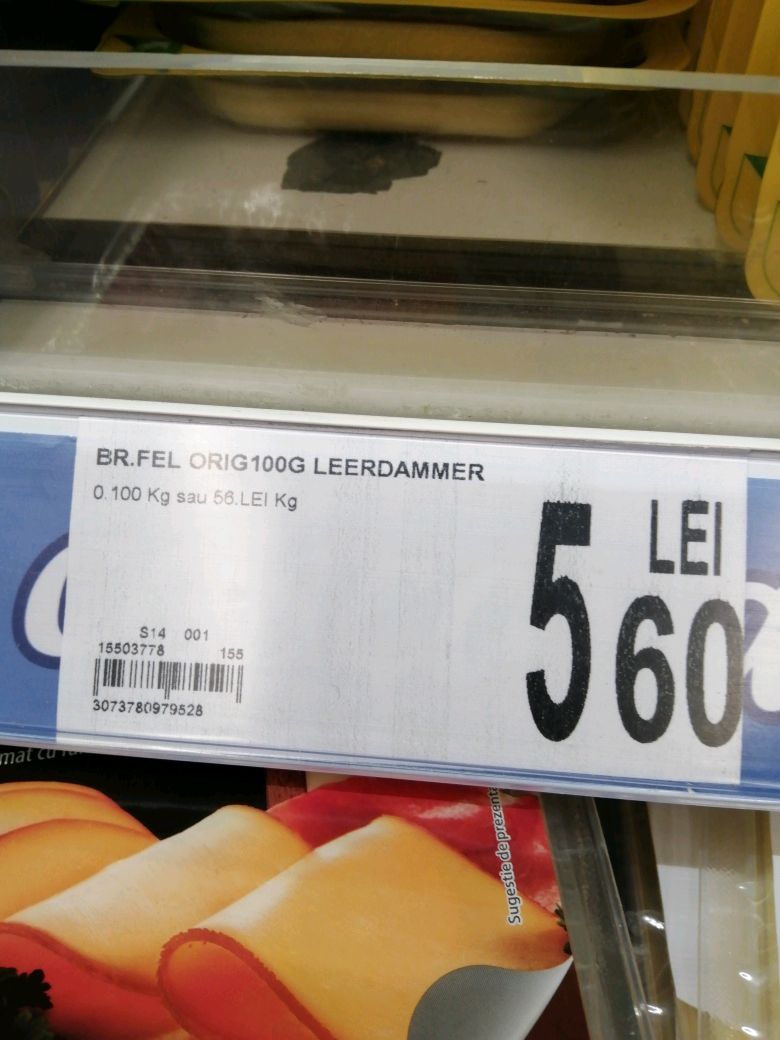price_bani: (613, 584, 747, 751)
price_lei: (516, 491, 604, 750)
price_tag: (46, 406, 755, 799)
product_id: (84, 693, 208, 725)
product_name: (83, 435, 503, 491)
